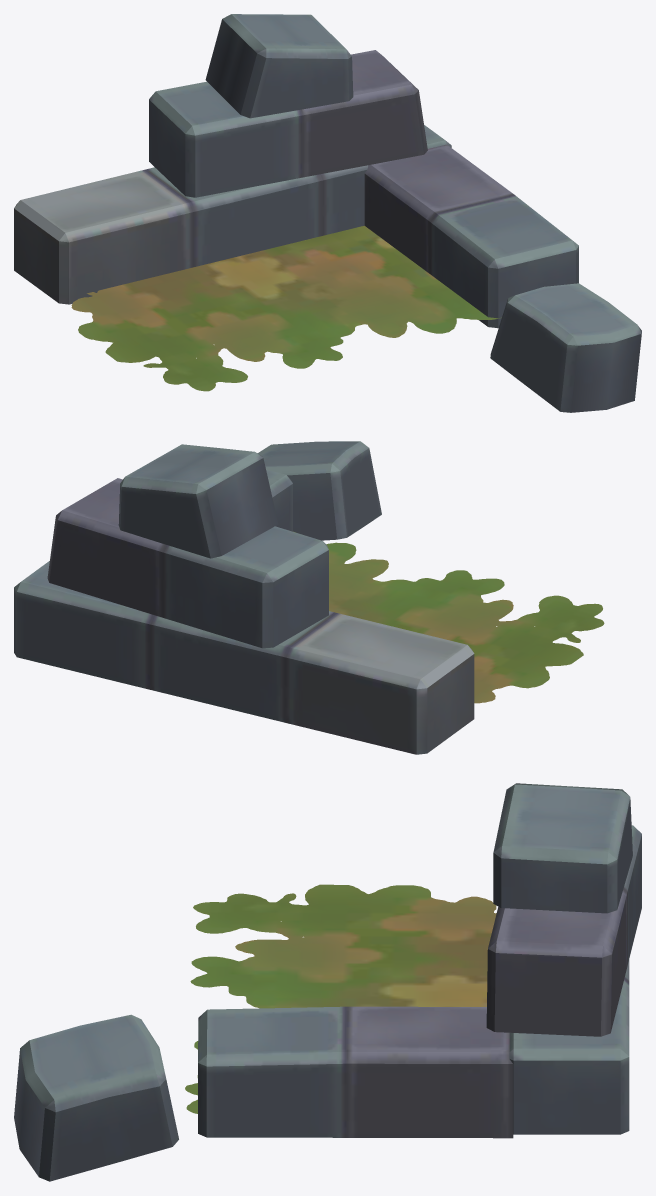
File: ruins_4.fbx
3 renders of one model, top to bottom at view 1: azimuth 30°, elevation 25°; view 2: azimuth 150°, elevation 25°; view 3: azimuth 270°, elevation 25°, orthographic. The views are drawn at different scales.
Parts seen in each view (by area): view 1: building, obstacle_ground_01; view 2: building, obstacle_ground_01; view 3: building, obstacle_ground_01.
Boxes of the visible parts, bbox=[...] form: building: bbox=[14, 14, 641, 412]; obstacle_ground_01: bbox=[71, 225, 501, 391]; building: bbox=[14, 441, 474, 754]; obstacle_ground_01: bbox=[293, 531, 604, 703]; building: bbox=[14, 783, 641, 1181]; obstacle_ground_01: bbox=[185, 884, 496, 1113].
Size of the model in its own units: 1.89 by 1.07 by 2.06.
